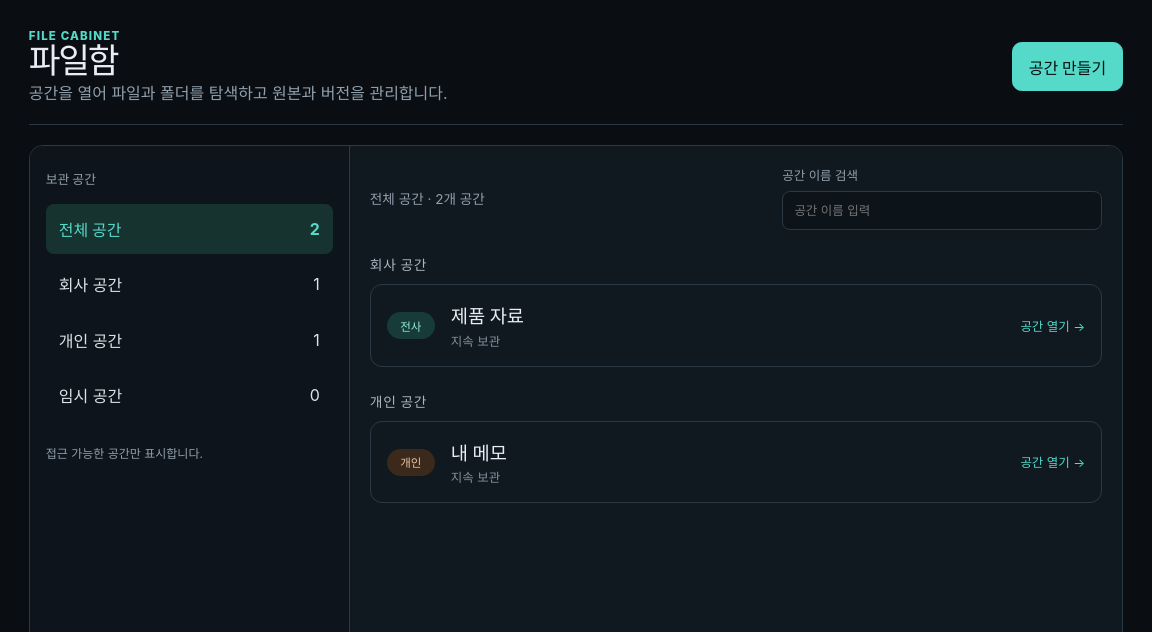
Test: WorkspacePage › groups real workspace kinds and keeps the creation form collapsed by default
Expected: the heading "파일함" is shown, x1=29 y1=42 x2=117 y2=80
Expected: the heading "회사 공간" is shown, x1=370 y1=257 x2=427 y2=273
Click the button "공간 만들기": (1068, 66) x1=1012 y1=42 x2=1123 y2=91
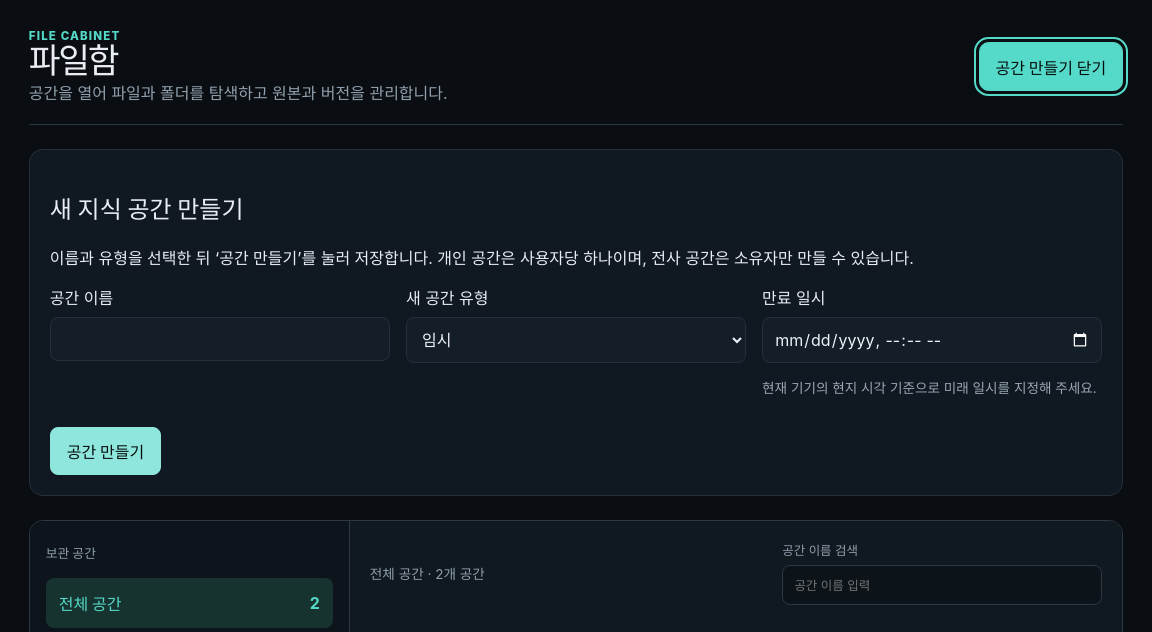
Expected: the form "새 지식 공간 만들기" is shown, x1=29 y1=149 x2=1123 y2=496
